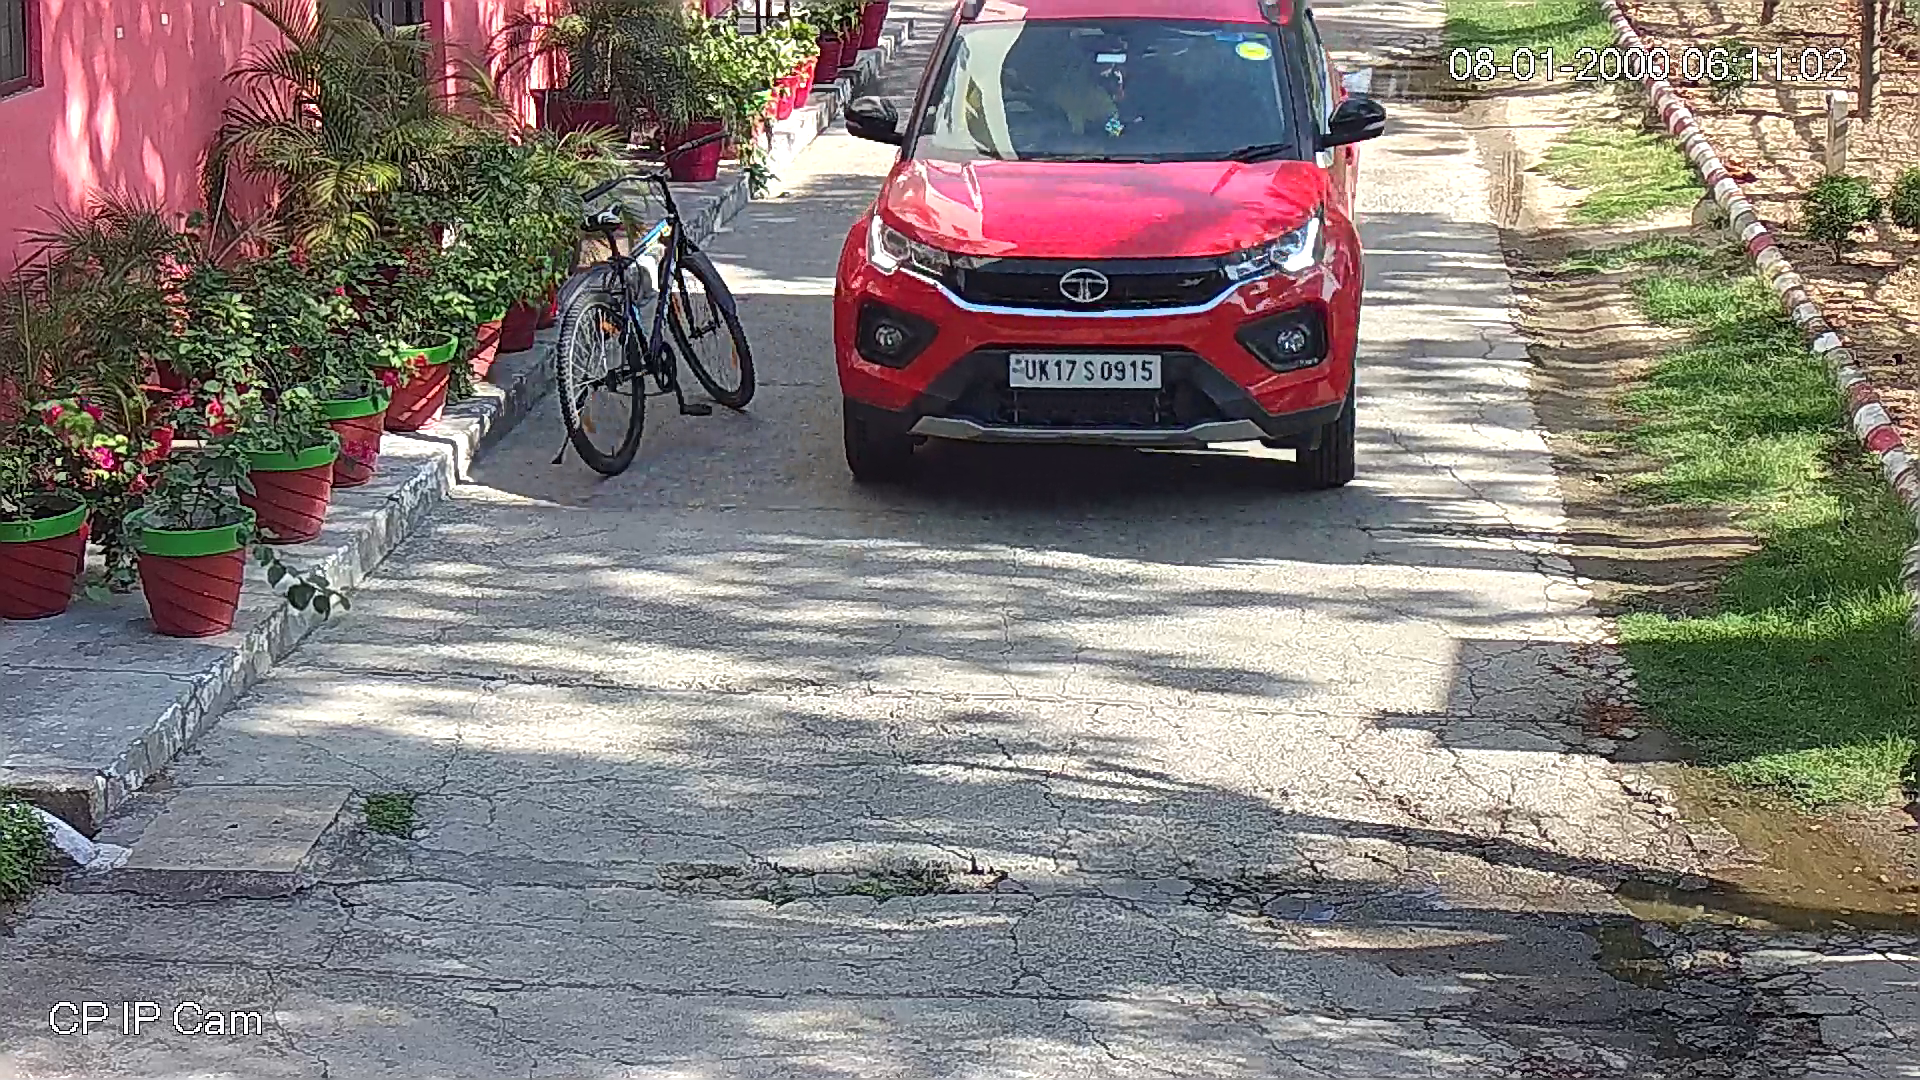plate: (1001, 348, 1164, 396)
